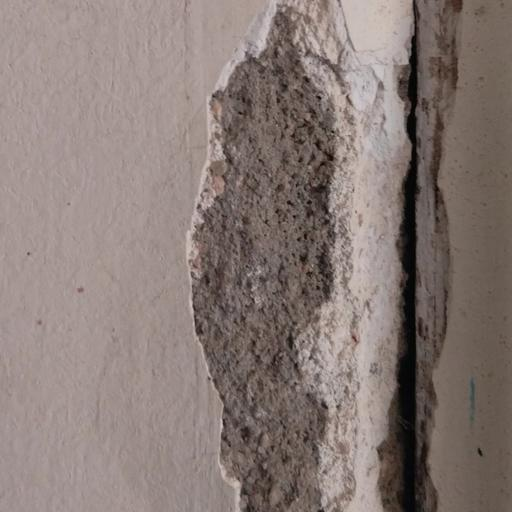spalling: (184, 0, 454, 512)
